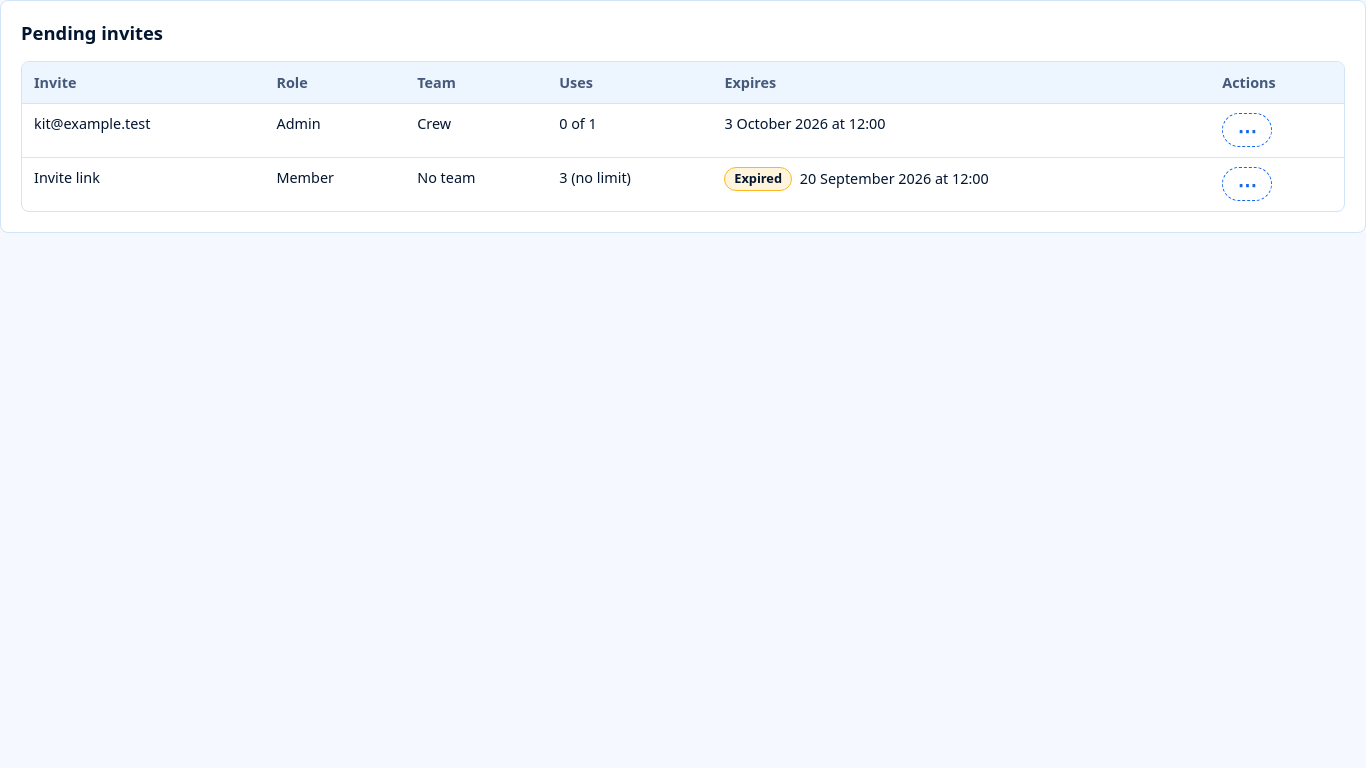
InviteList revoking an invite › asks before revoking an email invite, revokes it and says so
This screenshot has width=1366, height=768.
Later steps or results of the test are not shown.
What coordinates should you click on to do the following:
click the button named "Actions for "
I would click on:
 (1247, 130)
Its box is [1222, 113, 1272, 147].
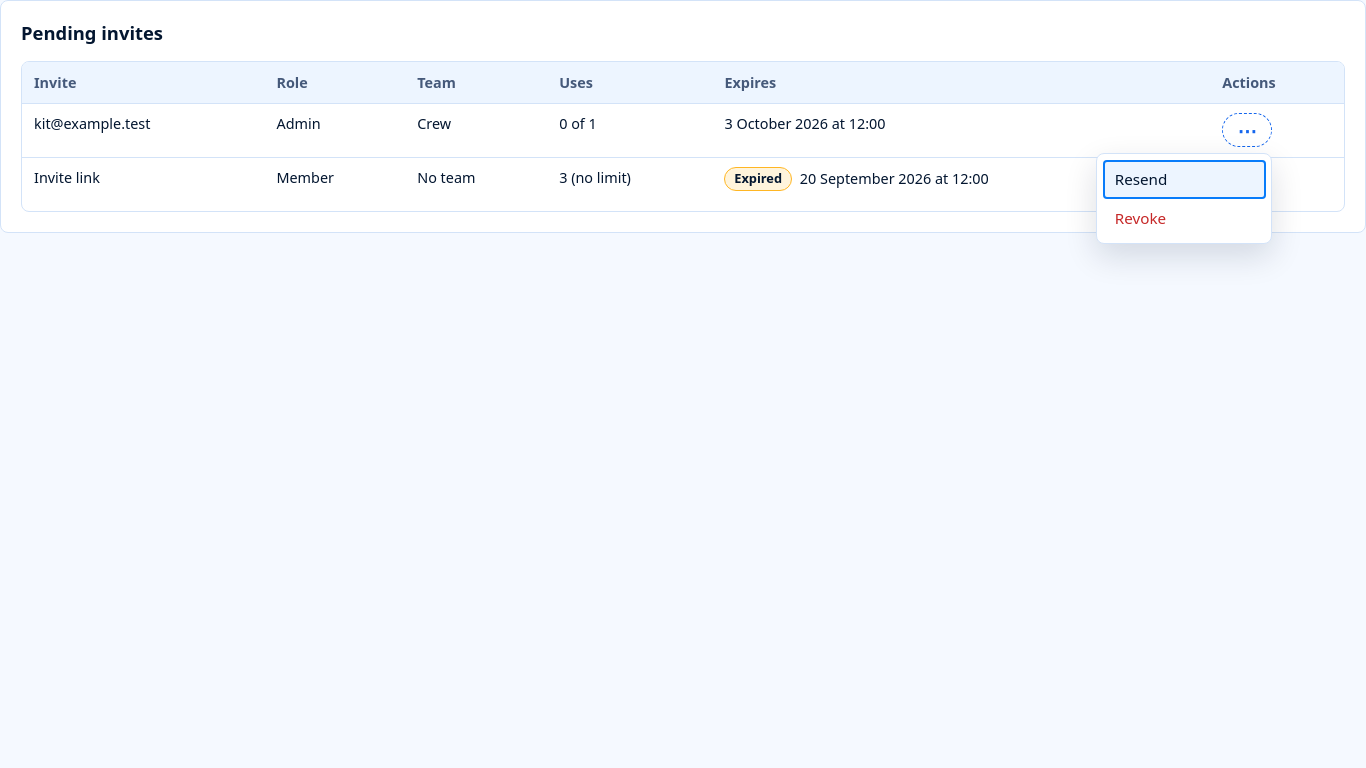
What coordinates should you click on to do the following:
click the menu item "Revoke"
I would click on:
 (1184, 218)
Its box is [1103, 199, 1266, 238].
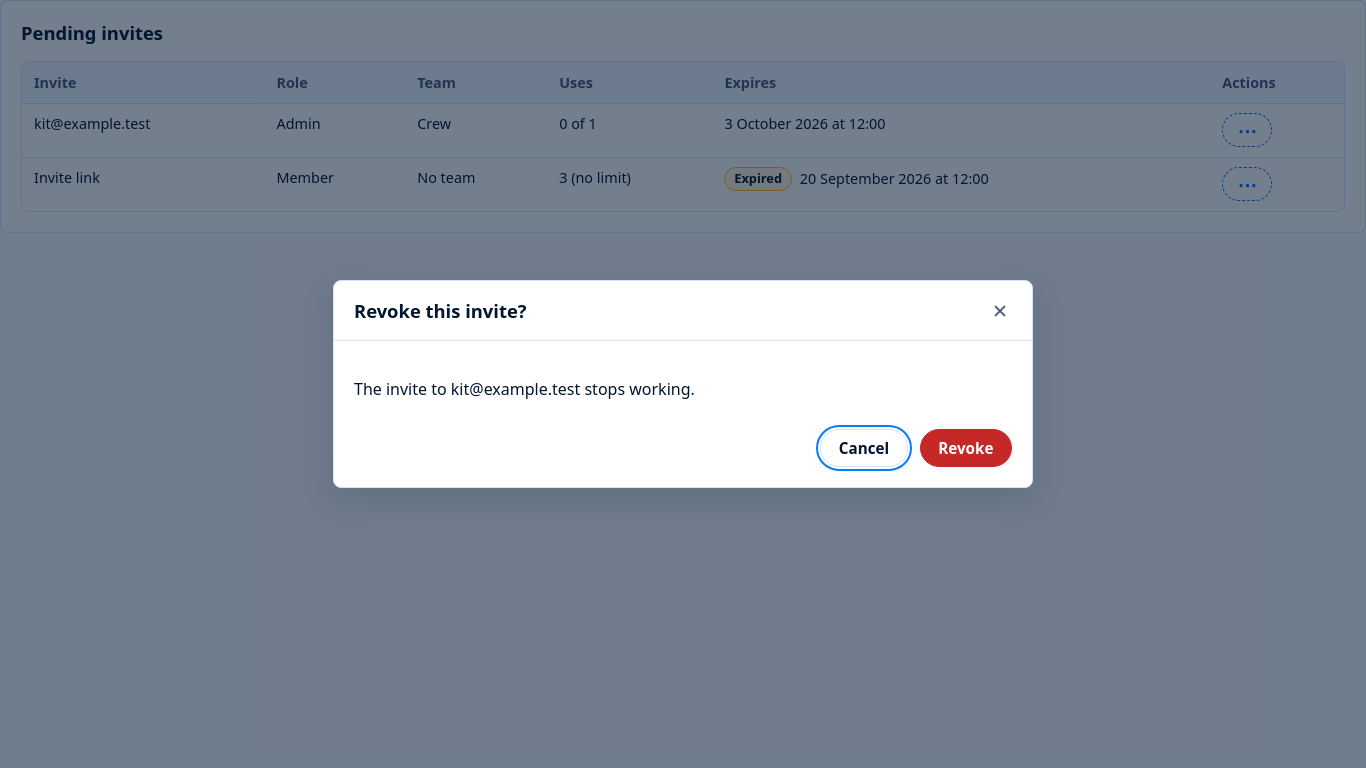
What coordinates should you click on to do the following:
click the button "Revoke"
I would click on:
 (966, 448)
Its box is [920, 429, 1012, 467].
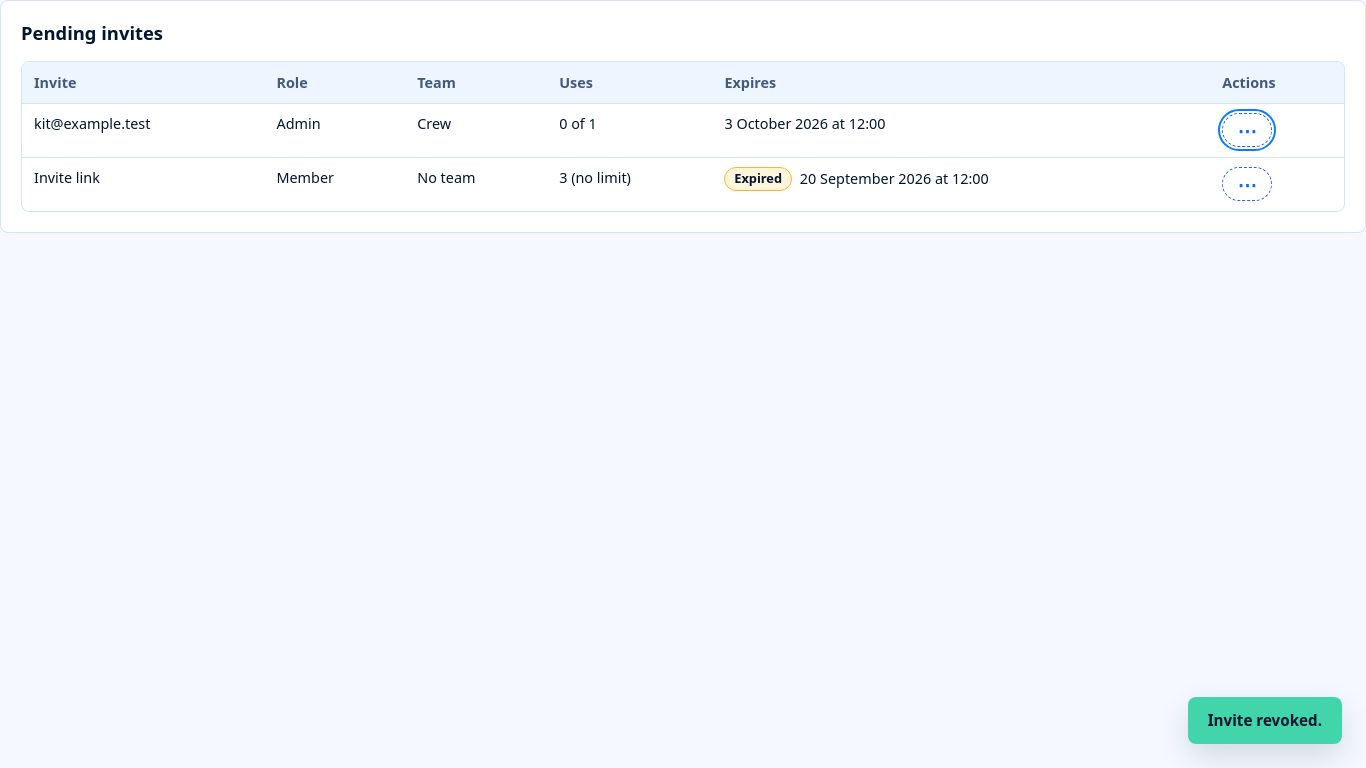
Check: the dialog is gone
Check: the message reads "Invite revoked.", box [1208, 710, 1322, 730]
